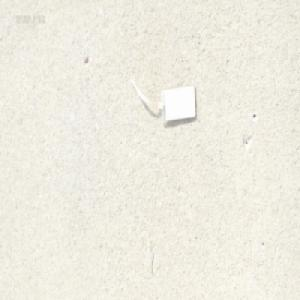LuggageTag: (126, 67, 196, 124)
